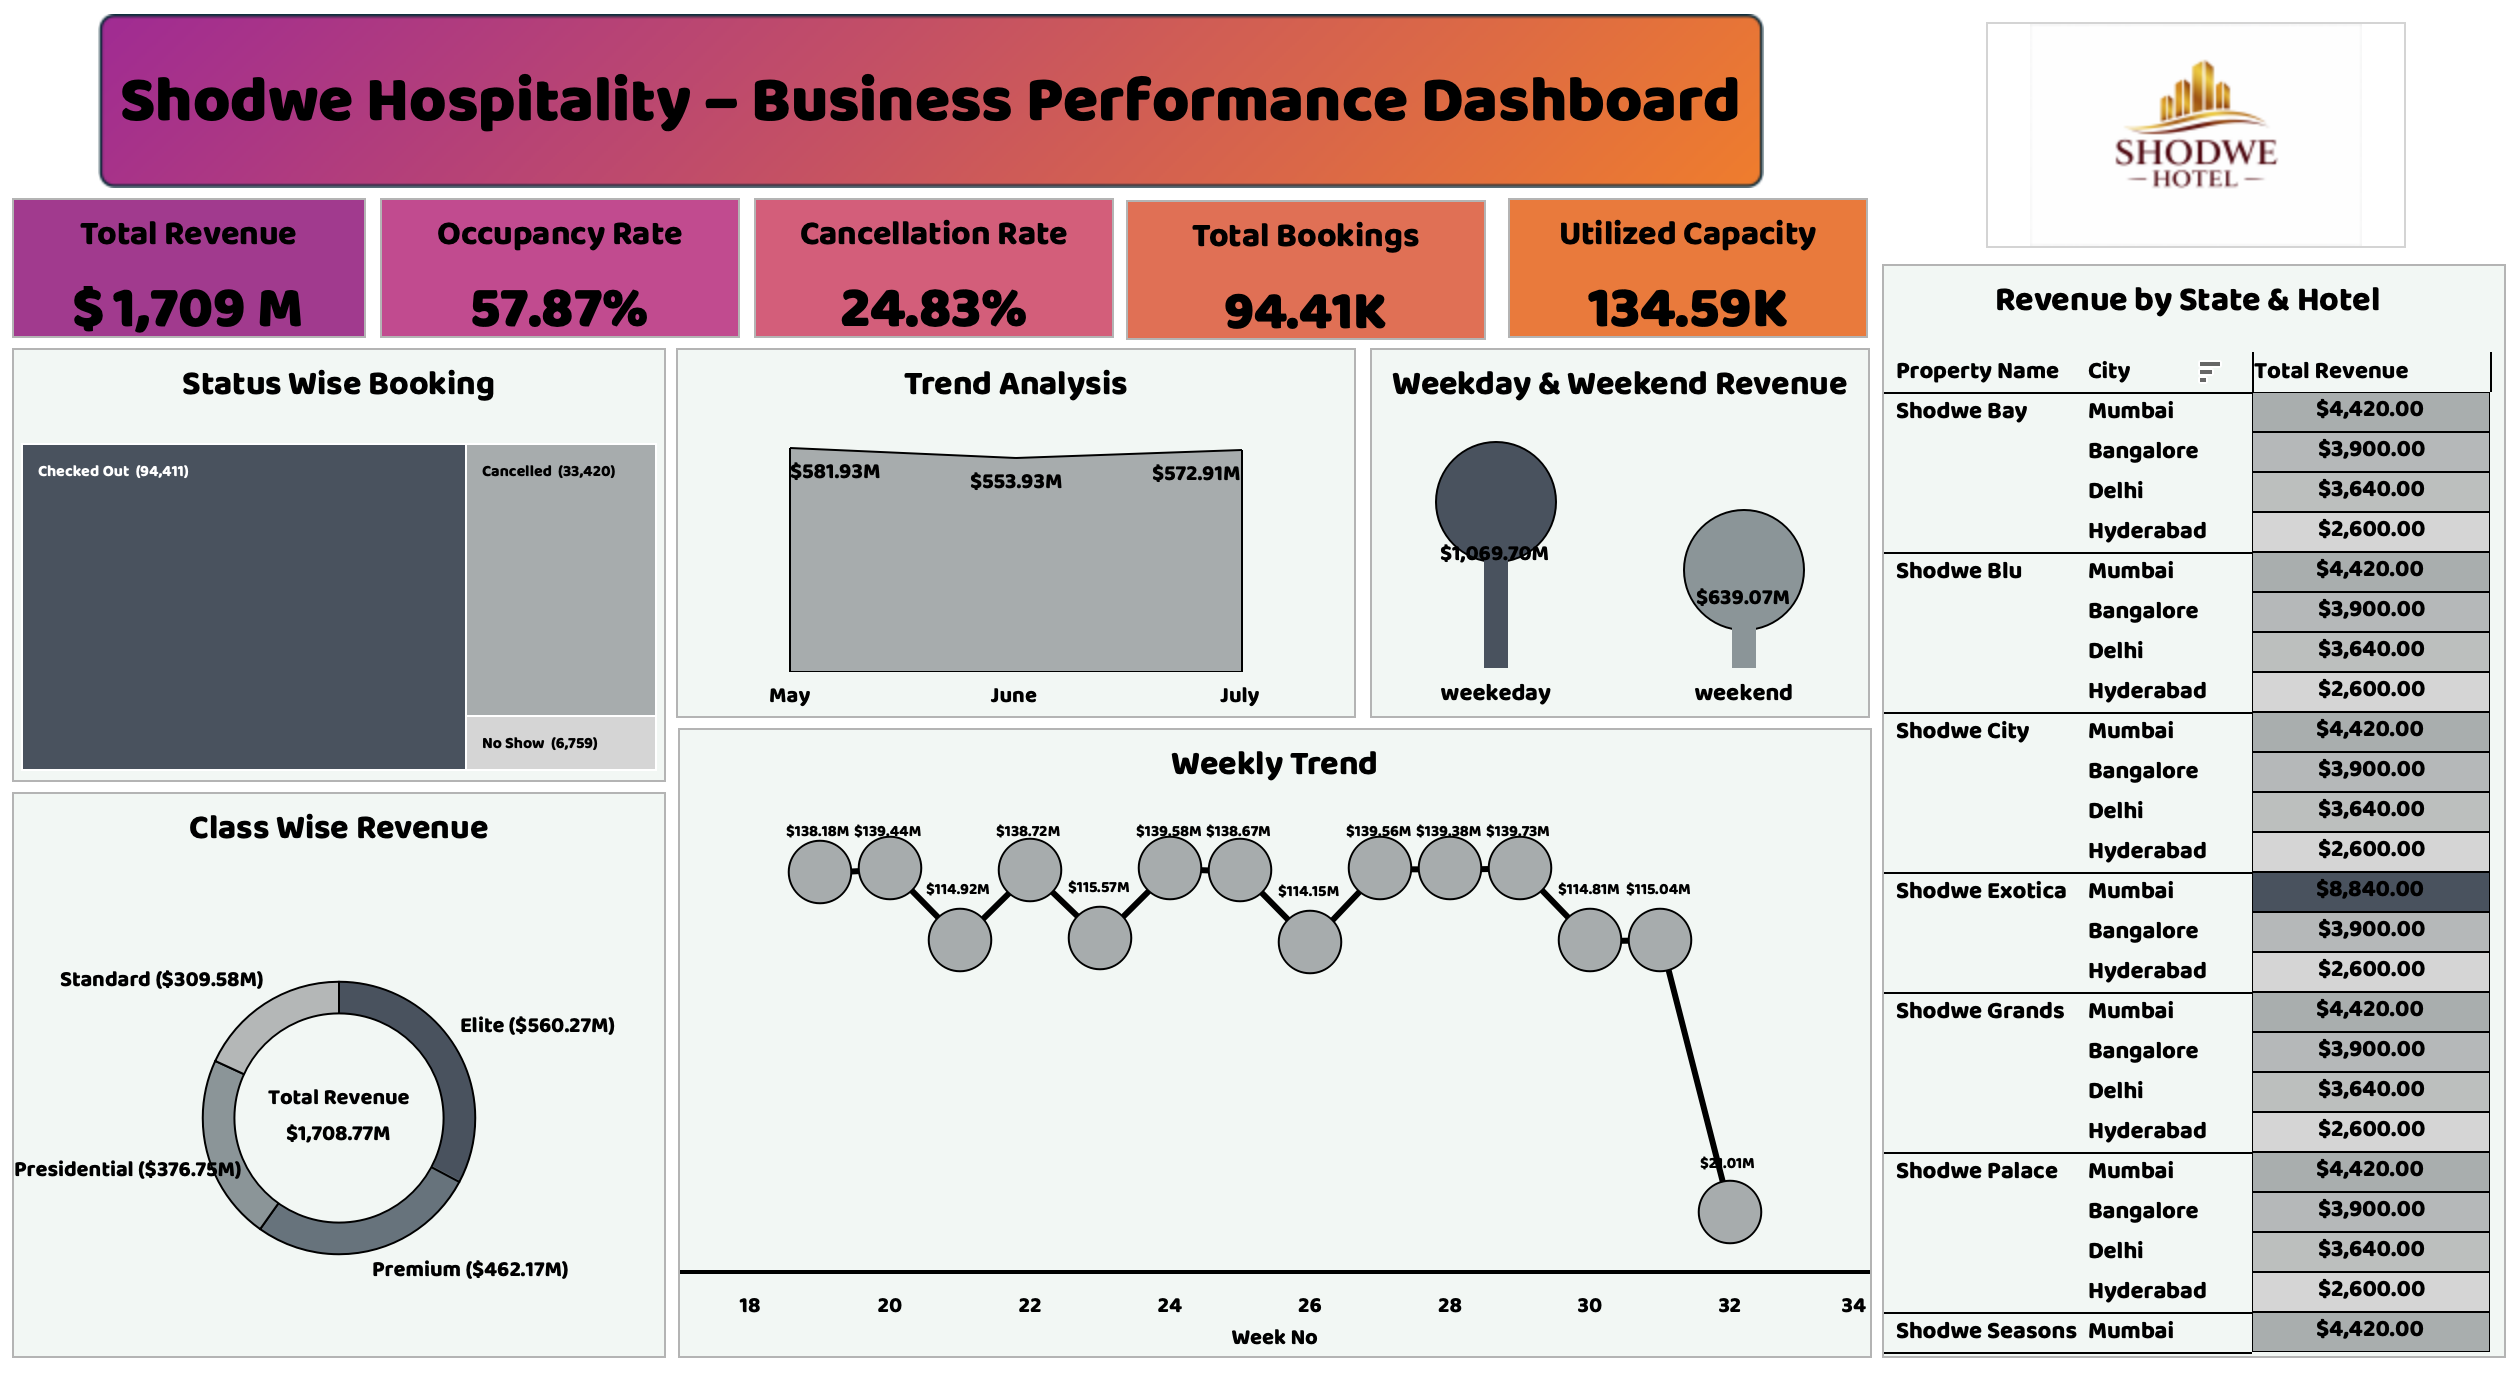

The page's visual inventory and layout, read from the dashboard file:
{"tool":"tableau","page":{"name":"Dashboard","canvas":[1250,680],"ordinal":0},"visuals":[{"type":"image","param":"Image/Title Image.png","box":[49,3,833,88]},{"type":"image","param":"Image/SHODWE HOTEL.png","box":[993,7,210,113]},{"type":"text","box":[50,21,831,51]},{"type":"worksheet","title":"1","mark":"Automatic","box":[6,95,177,70]},{"type":"worksheet","title":"2","mark":"Automatic","box":[190,95,180,70]},{"type":"worksheet","title":"3","mark":"Automatic","box":[377,95,180,70]},{"type":"worksheet","title":"5","mark":"Automatic","box":[754,95,180,70]},{"type":"worksheet","title":"4","mark":"Automatic","box":[563,96,180,70]},{"type":"worksheet","title":"8","mark":"Square","rows":["property_name","city"],"box":[941,128,312,547]},{"type":"worksheet","title":"10","mark":"Automatic","box":[6,170,327,217]},{"type":"worksheet","title":"6","mark":"Area","rows":["revenue_realized"],"cols":["check_in_date"],"box":[338,170,340,185]},{"type":"worksheet","title":"7","mark":"Automatic","rows":["booking_id","booking_id"],"cols":["day_type"],"box":[685,170,250,185]},{"type":"worksheet","title":"11","mark":"Automatic","rows":["revenue_realized","revenue_realized"],"cols":["week no"],"box":[339,360,597,315]},{"type":"worksheet","title":"9","mark":"Pie","rows":["Calculation_0478381838295051","Calculation_0478381838295051"],"box":[6,392,327,283]}]}

Visuals, with their boxes in screenshot pixels (x1, y1, x2, y2), scaled from the page's 1250x680 canvas onto the 2508x1374 screenshot:
image: 98:6:1770:184
image: 1992:14:2414:242
text: 100:42:1768:145
"1" worksheet: 12:192:367:333
"2" worksheet: 381:192:742:333
"3" worksheet: 756:192:1118:333
"5" worksheet: 1513:192:1874:333
"4" worksheet: 1130:194:1491:335
"8" worksheet (Square marks): 1888:259:2507:1364
"10" worksheet: 12:344:668:782
"6" worksheet (Area marks): 678:344:1360:717
"7" worksheet: 1374:344:1876:717
"11" worksheet: 680:727:1878:1364
"9" worksheet (Pie marks): 12:792:668:1364
